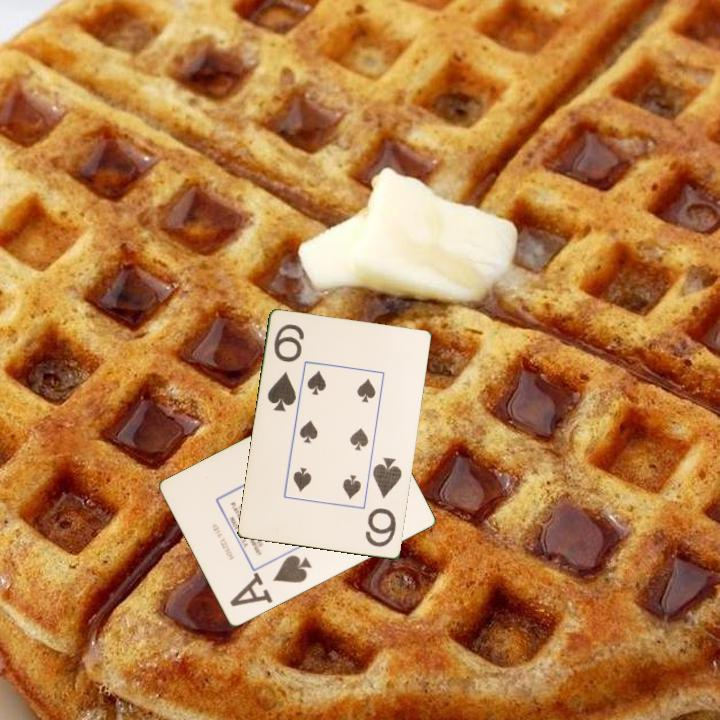6s: (264, 320, 308, 415), (362, 454, 405, 550)
As: (234, 552, 315, 605)
